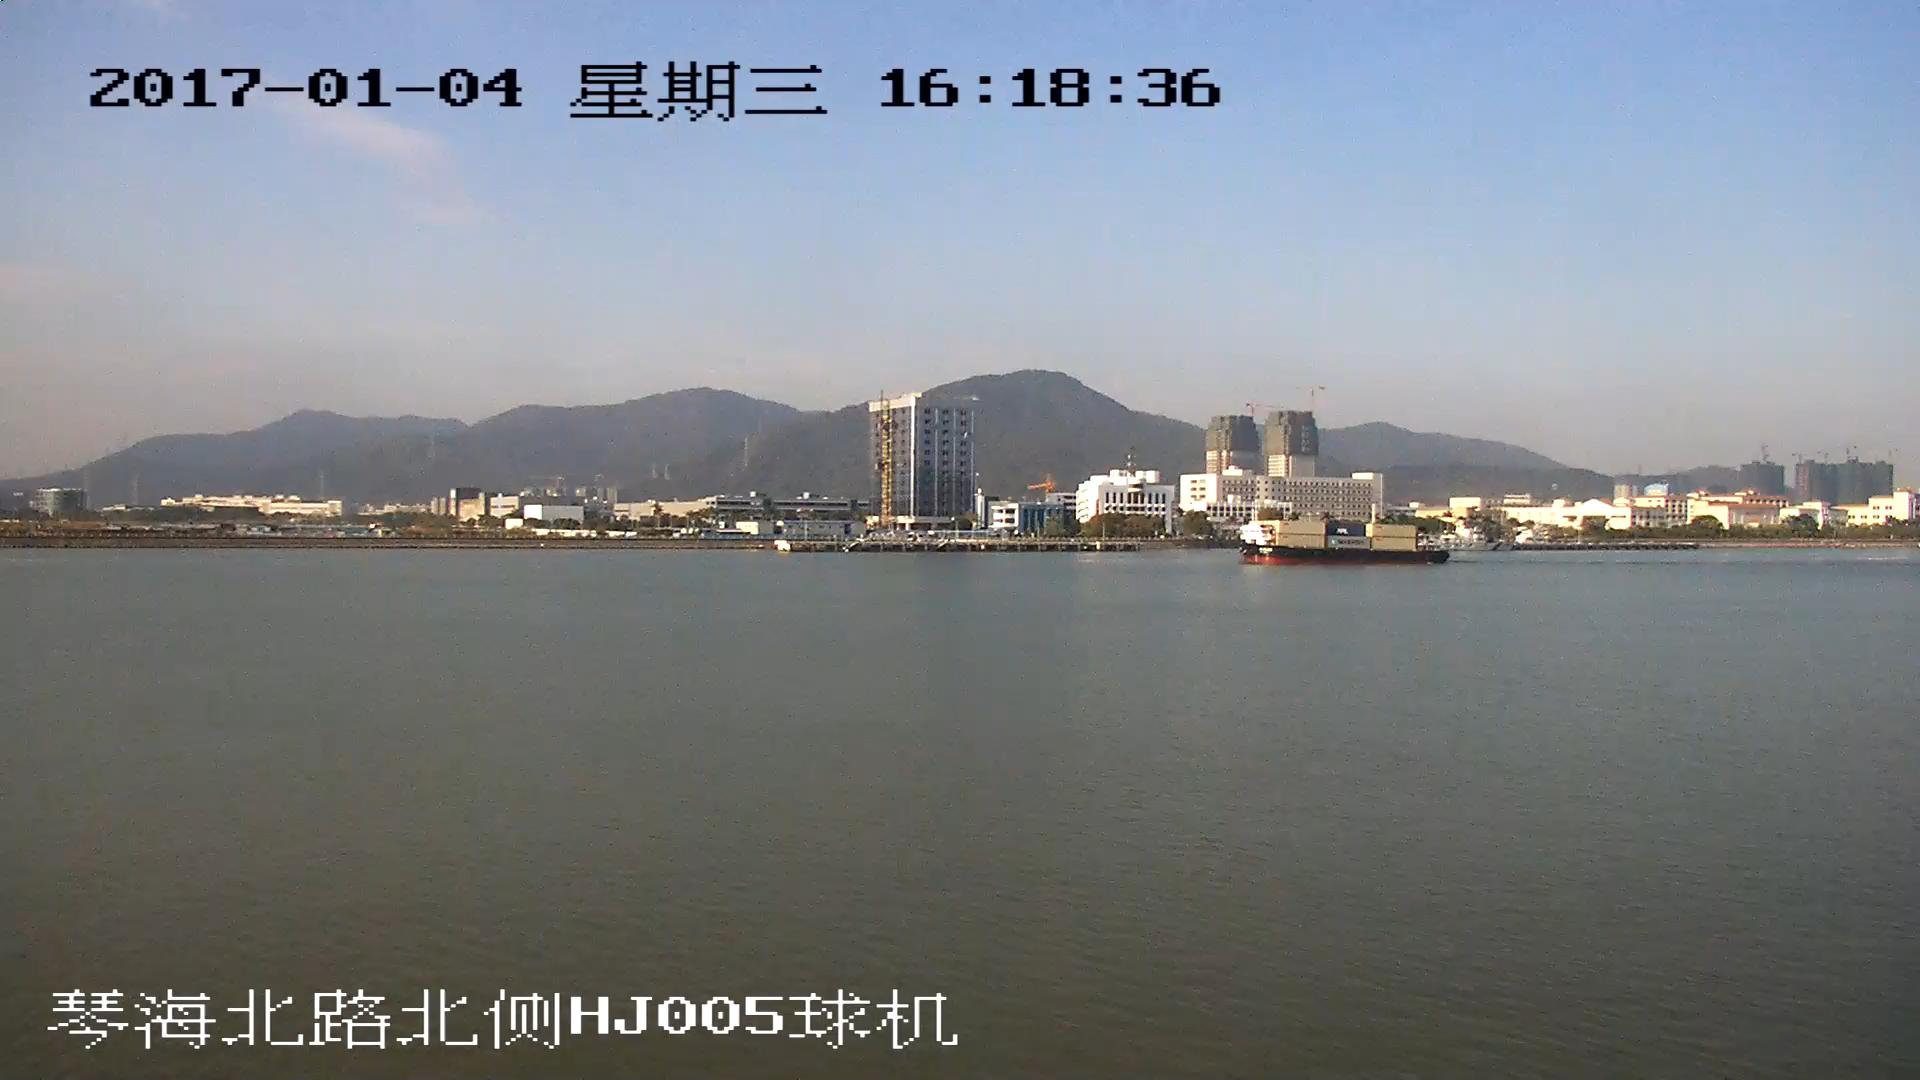container ship: (1240, 515, 1449, 568)
